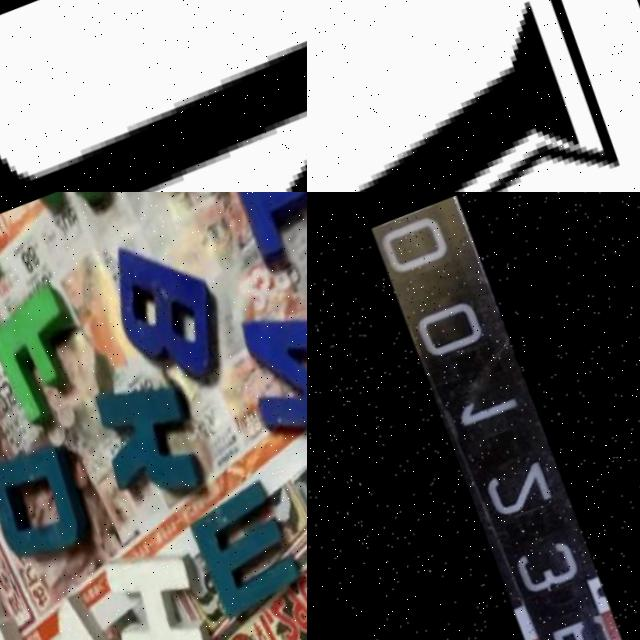0: (371, 202, 457, 280), (407, 286, 493, 363)
1: (307, 0, 640, 192), (448, 372, 531, 437)
2: (480, 447, 566, 522)
3: (509, 525, 595, 600)
5: (549, 601, 628, 640)
B: (91, 222, 247, 397)
D: (0, 426, 118, 580)
F: (0, 278, 109, 427)
H: (90, 522, 241, 640)
K: (84, 368, 226, 517)
M: (183, 466, 307, 634)
N: (221, 280, 307, 448)
Q: (0, 555, 39, 640)
T: (208, 192, 307, 277)
V: (0, 35, 307, 192)
Y: (0, 236, 25, 364)
Z: (5, 580, 159, 640)
